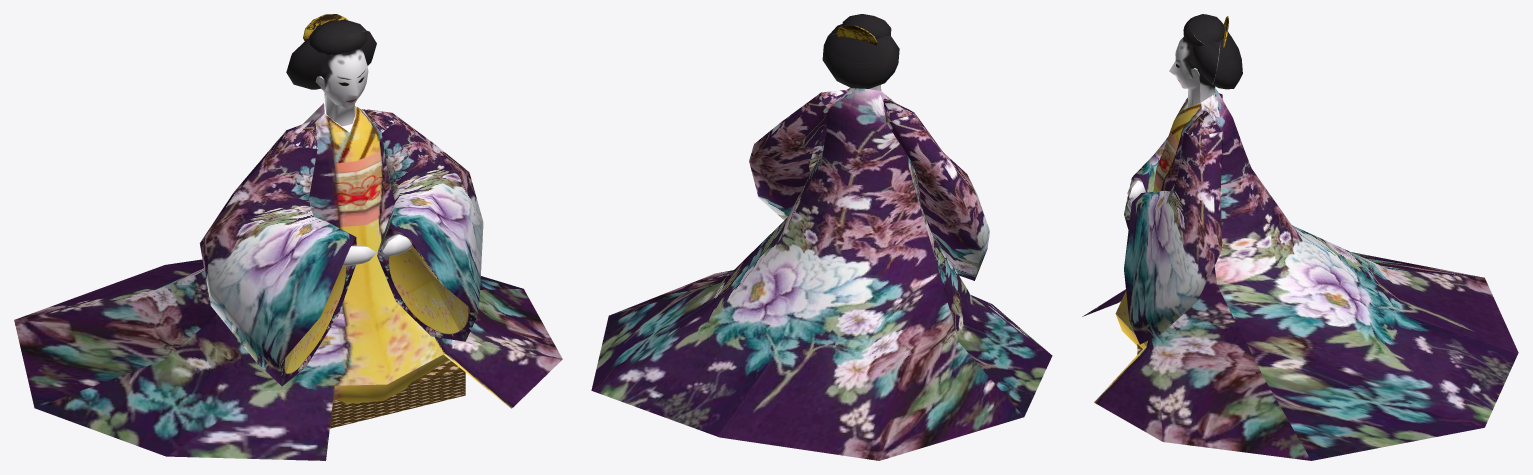
File: GeishaSculpture1.b.fbx
3 renders of one model, left to right at view 1: azimuth 30°, elevation 25°; view 2: azimuth 150°, elevation 25°; view 3: azimuth 270°, elevation 25°, orthographic. The views are drawn at different scales.
Parts seen in each view (by area): view 1: Group 0; view 2: Group 0; view 3: Group 0.
Boxes of the visible parts, x1,y1,x2,y2 form: Group 0: (14,14,562,460); Group 0: (591,14,1052,460); Group 0: (1082,14,1518,460).
Size of the model in its own units: 66.12 by 47.57 by 56.44.
1 material, 1 textured.
